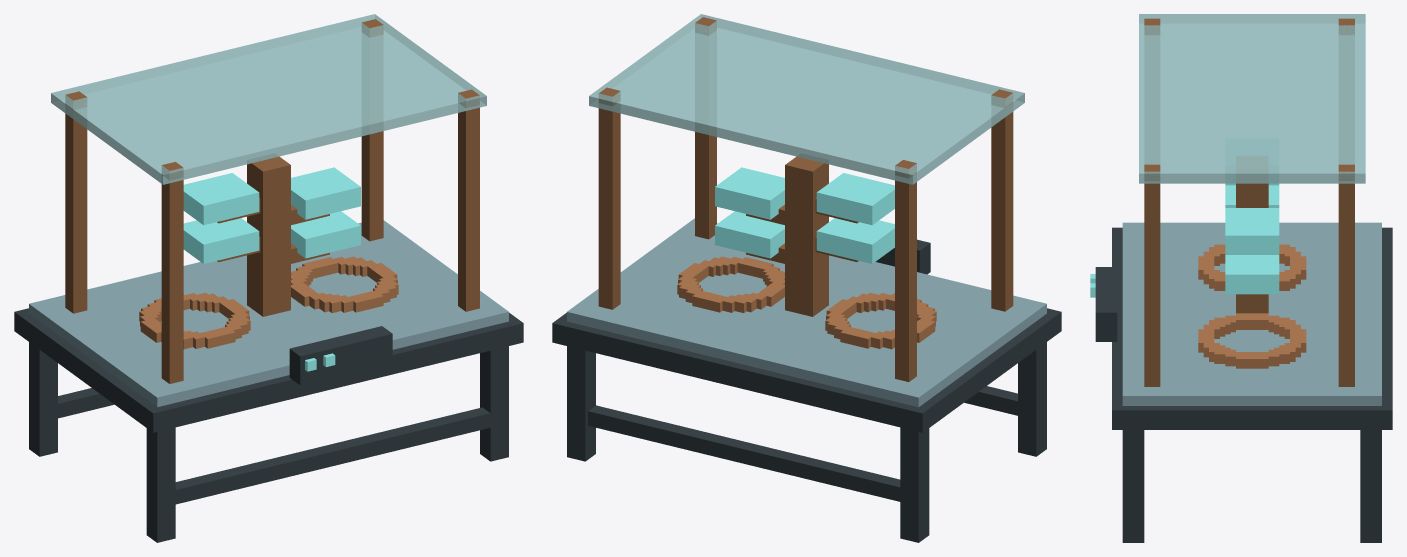
Rendered from arcane_studies_station_t7.glb.
3 renders of one model, left to right at view 1: azimuth 30°, elevation 25°; view 2: azimuth 150°, elevation 25°; view 3: azimuth 270°, elevation 25°, orthographic.
Visible parts, largest first — view 1: arcane_studies_station_t7/growth_chamber, arcane_studies_station_t7/work_surface, arcane_studies_station_t7/frame; view 2: arcane_studies_station_t7/growth_chamber, arcane_studies_station_t7/work_surface, arcane_studies_station_t7/frame; view 3: arcane_studies_station_t7/growth_chamber, arcane_studies_station_t7/work_surface, arcane_studies_station_t7/frame.
Part boxes in pixels (x1,y1,x2,y2): arcane_studies_station_t7/growth_chamber: (51,14,486,383); arcane_studies_station_t7/work_surface: (29,220,508,407); arcane_studies_station_t7/frame: (14,308,523,542); arcane_studies_station_t7/growth_chamber: (589,14,1024,381); arcane_studies_station_t7/work_surface: (567,218,1046,407); arcane_studies_station_t7/frame: (552,308,1061,542); arcane_studies_station_t7/growth_chamber: (1139,14,1365,386); arcane_studies_station_t7/work_surface: (1090,222,1381,405); arcane_studies_station_t7/frame: (1112,227,1392,542).
Bounding box in the file's own units: 2.5 × 2.31 × 1.75.
